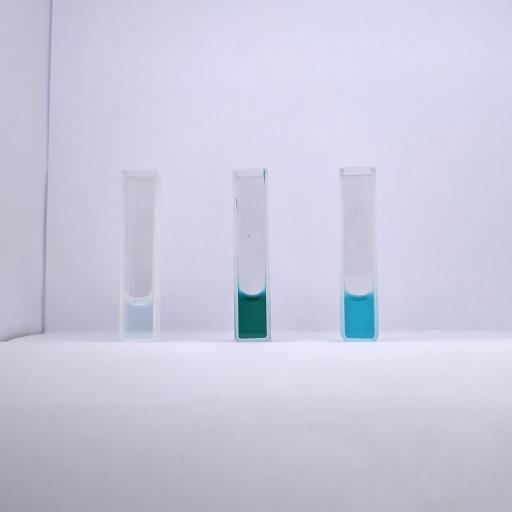cuvette: (229, 165, 274, 343), (338, 164, 380, 342), (118, 166, 160, 344)
liquid: (344, 292, 374, 338), (238, 291, 266, 338), (124, 296, 152, 338)
